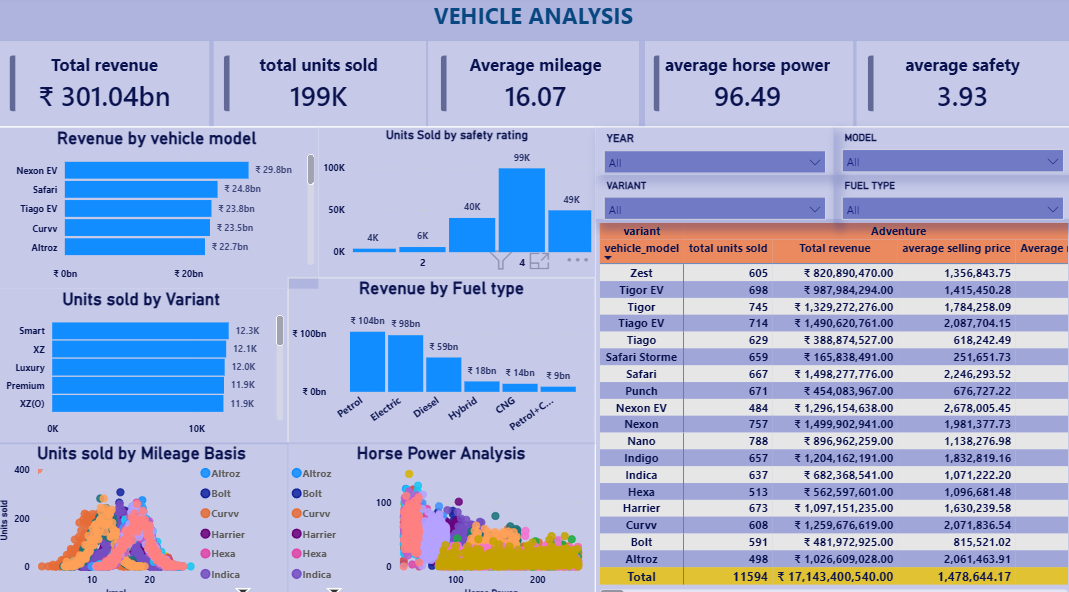

What the dashboard file says about the page in this screenshot:
{"tool":"powerbi","page":{"name":"vehicle analysis","canvas":[1280,720],"ordinal":1},"visuals":[{"type":"cardVisual","fields":{"Data":["date_table.Average mileage"]},"box":[511.7,53.3,260,101.7],"z":0},{"type":"cardVisual","fields":{"Data":["date_table.total units sold"]},"box":[255,53.3,260,101.7],"z":1000},{"type":"cardVisual","fields":{"Data":["date_table.Total revenue"]},"box":[0,53.3,260,101.7],"z":2000},{"type":"cardVisual","fields":{"Data":["date_table.average horse power"]},"box":[765,53.3,258.3,101.7],"z":3000},{"type":"cardVisual","fields":{"Data":["date_table.average safety"]},"box":[1020,53.3,260,101.7],"z":4000},{"type":"barChart","title":"Revenue by vehicle model","fields":{"Category":["sales_details.vehicle_model"],"Y":["date_table.Total revenue"]},"box":[0,156.4,384.3,191.3],"z":5000},{"type":"barChart","title":"Units sold by Variant","fields":{"Category":["vehicle_info.variant"],"Y":["date_table.total units sold"]},"box":[0,347.8,347.7,184.7],"z":6000},{"type":"clusteredColumnChart","title":"Revenue by Fuel type","fields":{"Category":["vehicle_info.fuel_type"],"Y":["date_table.Total revenue"]},"box":[347.8,334.4,366.1,198],"z":7000},{"type":"scatterChart","title":"Mileage Analysis","fields":{"Y":["date_table.total units sold"],"X":["vehicle_info.mileage_kmpl"],"Series":["vehicle_info.vehicle_model"]},"box":[0,530,348.3,190],"z":8000},{"type":"scatterChart","title":"Horse Power Analysis","fields":{"Y":["date_table.total units sold"],"X":["vehicle_info.horse_power"],"Series":["vehicle_info.vehicle_model"]},"box":[348.3,530,365,190],"z":9000},{"type":"clusteredColumnChart","title":"Units Sold by safety rating","fields":{"Category":["vehicle_info.safety_rating"],"Y":["date_table.total units sold"]},"box":[384.4,156.4,329.4,178],"z":10000},{"type":"pivotTable","fields":{"Rows":["vehicle_info.vehicle_model"],"Columns":["vehicle_info.variant"],"Values":["date_table.total units sold","date_table.Total revenue","date_table.average selling price","date_table.Average mileage"]},"box":[713.3,265,566.7,455],"z":11000},{"type":"slicer","title":"year","fields":{"Values":["date_table.year"]},"box":[713.3,156.7,283.3,56.7],"z":12000},{"type":"slicer","title":"year","fields":{"Values":["vehicle_info.variant"]},"box":[713.3,213.3,283.3,56.7],"z":13000},{"type":"slicer","title":"year","fields":{"Values":["vehicle_info.vehicle_model"]},"box":[996.7,156.7,283.3,56.7],"z":14000},{"type":"slicer","title":"year","fields":{"Values":["vehicle_info.fuel_type"]},"box":[996.7,213.3,283.3,56.7],"z":15000},{"type":"textbox","box":[0,0,1280,53.3],"z":16000}]}

Visuals, with their boxes in screenshot pixels (x1, y1, x2, y2), scaled from the page's 1280x720 canvas onto the 1069x592 screenshot:
cardVisual - date_table.Average mileage: {"x1": 427, "y1": 44, "x2": 644, "y2": 127}
cardVisual - date_table.total units sold: {"x1": 213, "y1": 44, "x2": 430, "y2": 127}
cardVisual - date_table.Total revenue: {"x1": 0, "y1": 44, "x2": 217, "y2": 127}
cardVisual - date_table.average horse power: {"x1": 639, "y1": 44, "x2": 855, "y2": 127}
cardVisual - date_table.average safety: {"x1": 852, "y1": 44, "x2": 1068, "y2": 127}
"Revenue by vehicle model" barChart: {"x1": 0, "y1": 129, "x2": 321, "y2": 286}
"Units sold by Variant" barChart: {"x1": 0, "y1": 286, "x2": 290, "y2": 438}
"Revenue by Fuel type" clusteredColumnChart: {"x1": 290, "y1": 275, "x2": 596, "y2": 438}
"Mileage Analysis" scatterChart: {"x1": 0, "y1": 436, "x2": 291, "y2": 591}
"Horse Power Analysis" scatterChart: {"x1": 291, "y1": 436, "x2": 596, "y2": 591}
"Units Sold by safety rating" clusteredColumnChart: {"x1": 321, "y1": 129, "x2": 596, "y2": 275}
pivotTable - vehicle_info.vehicle_model x vehicle_info.variant: {"x1": 596, "y1": 218, "x2": 1068, "y2": 591}
"year" slicer: {"x1": 596, "y1": 129, "x2": 832, "y2": 175}
"year" slicer: {"x1": 596, "y1": 175, "x2": 832, "y2": 222}
"year" slicer: {"x1": 832, "y1": 129, "x2": 1068, "y2": 175}
"year" slicer: {"x1": 832, "y1": 175, "x2": 1068, "y2": 222}
textbox: {"x1": 0, "y1": 0, "x2": 1068, "y2": 44}
